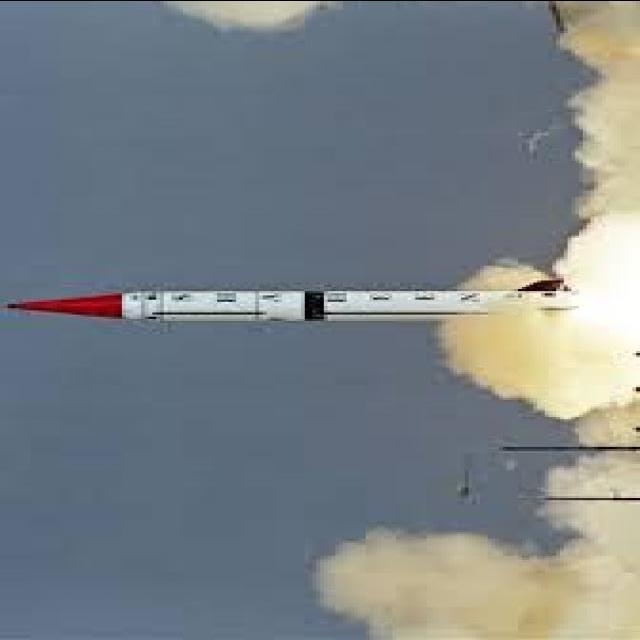Missile: (0, 287, 562, 325)
